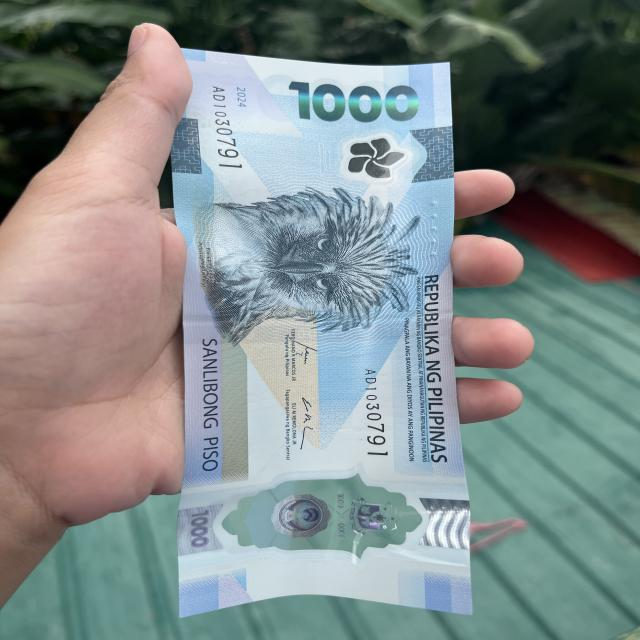clear_window: (180, 462, 470, 581)
eagle: (190, 182, 420, 342)
sampaguita: (314, 129, 418, 185)
security_thread: (182, 323, 450, 345)
serial_number: (362, 367, 397, 460), (212, 85, 243, 170)
